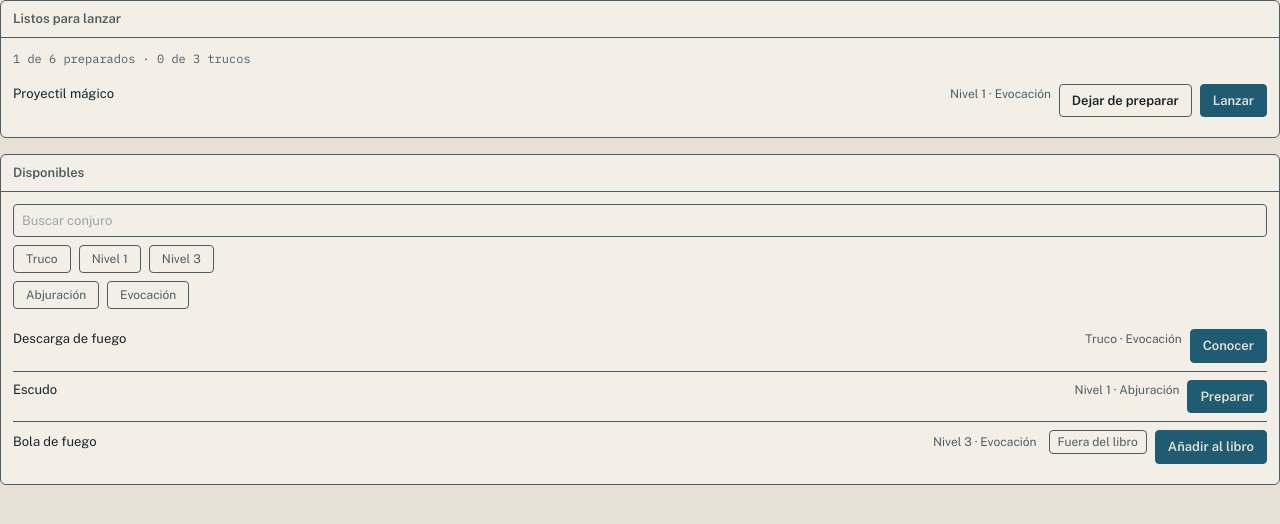
Test: LibroDeConjuros › fix round 2: tras el PUT se invalida la lista (se vuelve a pedir el GET) y el `fueraDeRegla` sale en la fila
Click the button "Preparar": [1227, 396] box [1187,380,1267,413]
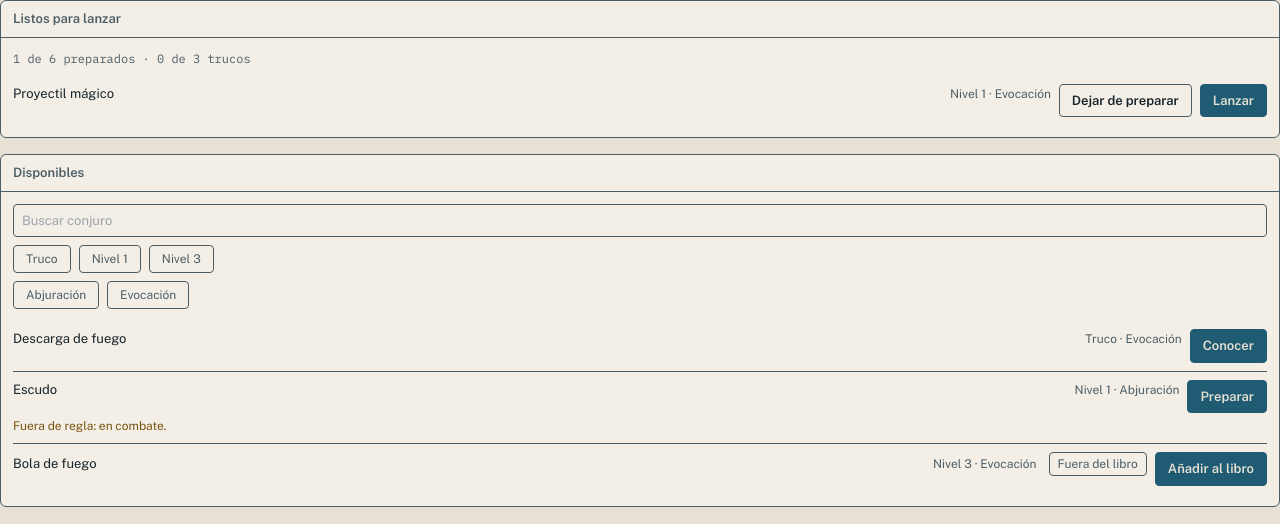
Check: the text "Fuera de regla: en combate." is shown, box [13,419,166,433]
